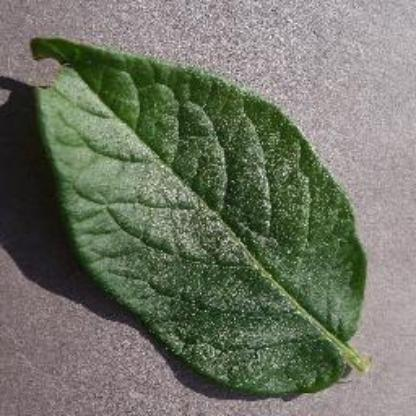Healthy-plant: (34, 81, 378, 409)
